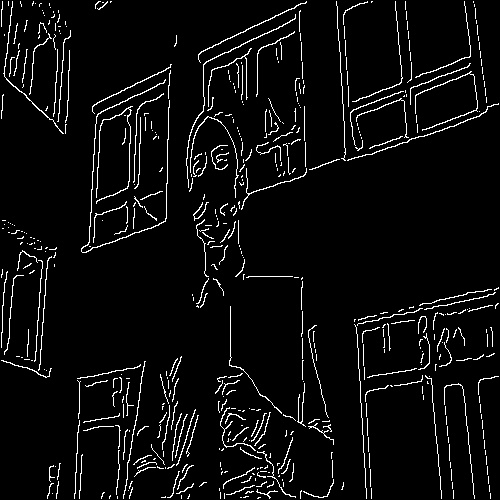mask: (194, 204, 242, 243)
